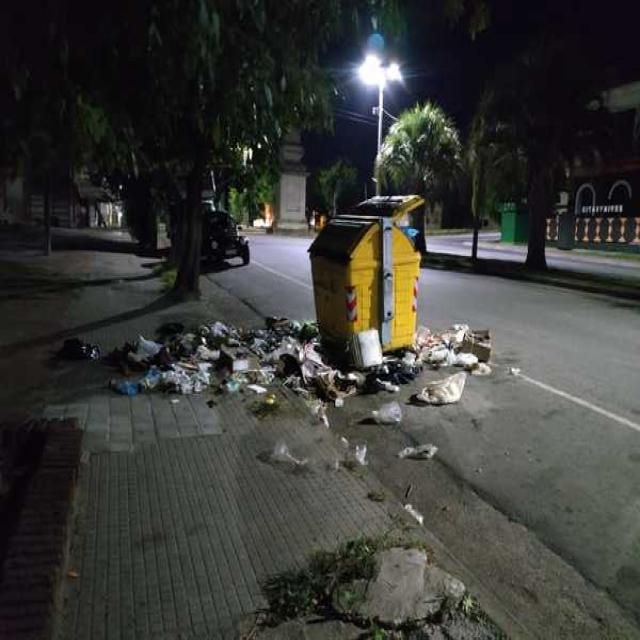garbage: (50, 310, 302, 403), (408, 319, 490, 421), (341, 323, 422, 394), (260, 432, 308, 472), (386, 430, 436, 465), (328, 432, 358, 482)
